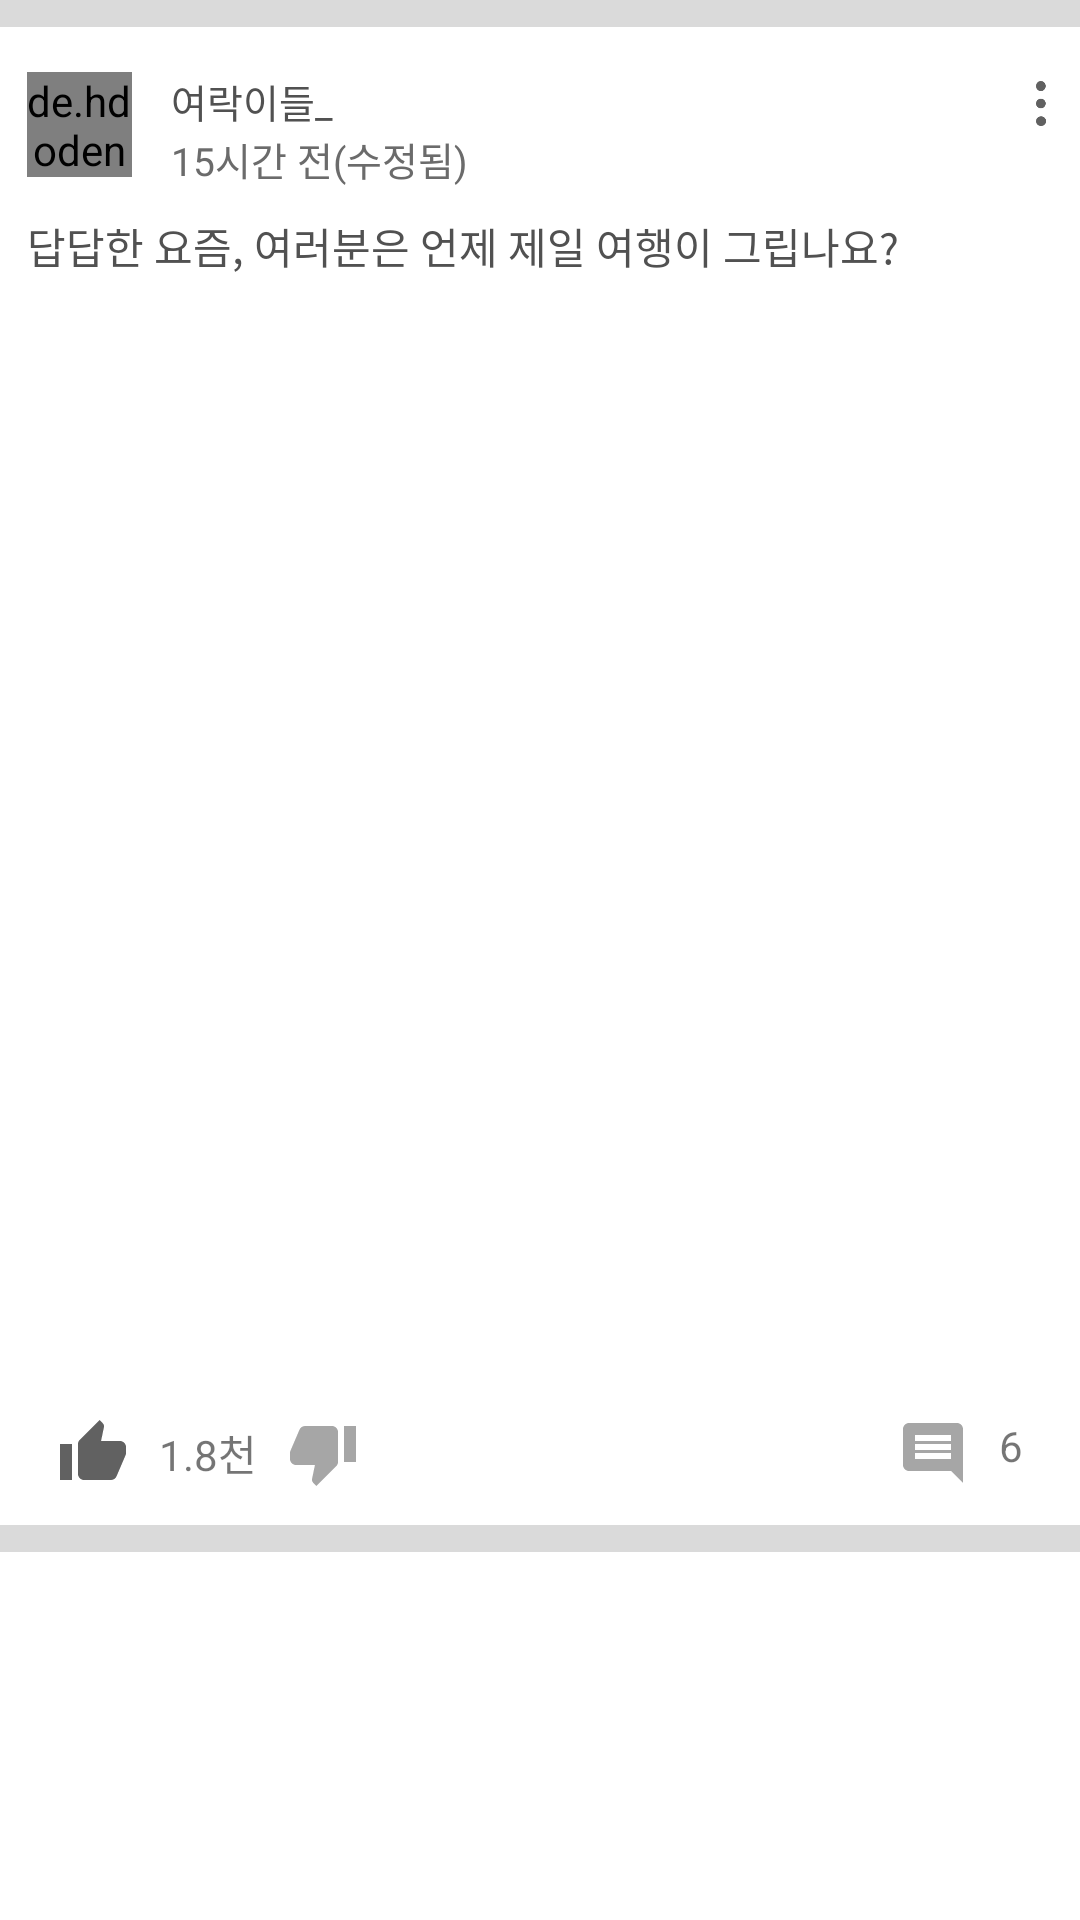

Named icons in this screenshot (1080px×1920px) and their centers, point (x, y):
comment: point (933, 1453)
thumb down: point (323, 1456)
thumb up: point (93, 1450)
